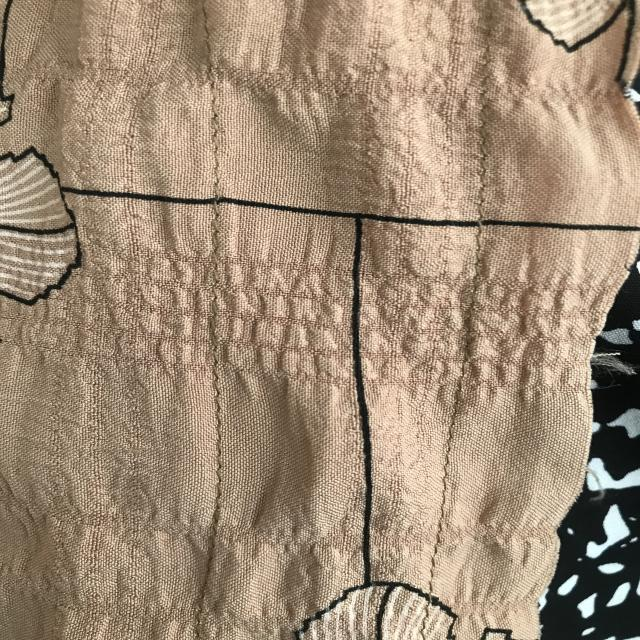good: (193, 380, 245, 497), (424, 428, 466, 550)
